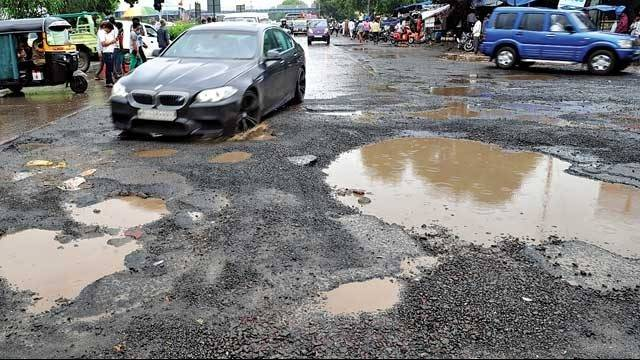pothole: (322, 109, 631, 266), (0, 212, 116, 326), (310, 265, 436, 326), (89, 167, 177, 233), (425, 80, 501, 104)
